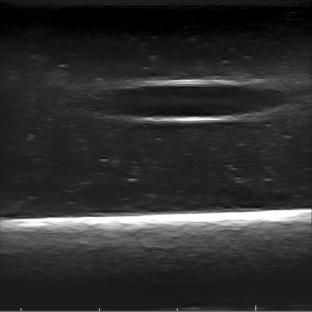vessel: (105, 77, 290, 125)
